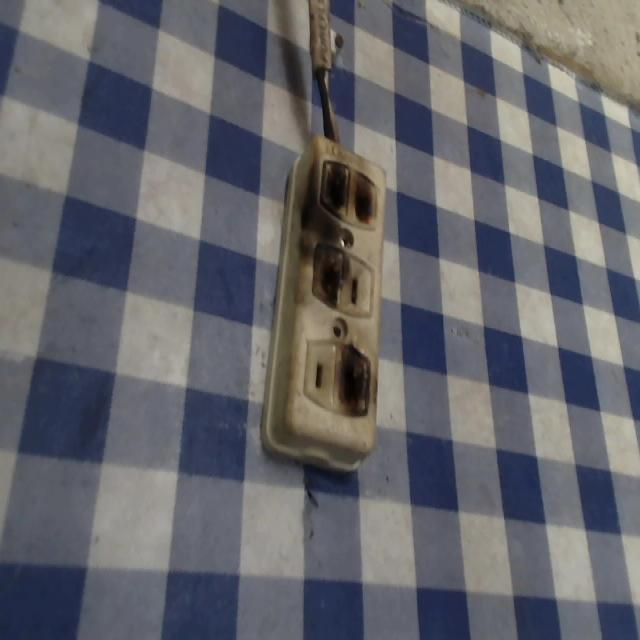-: (314, 154, 380, 230), (337, 342, 374, 418), (308, 241, 344, 307)
